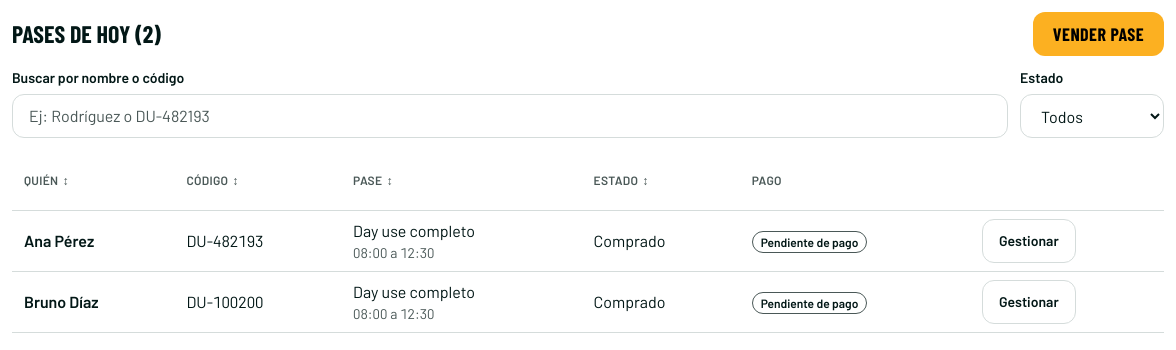
Test: PassesToday › lists the day's passes in a table and finds them by name or code
The image size is (1176, 350).
Expected: the heading "Pases de hoy (2)" is shown, [12, 18, 161, 50]
Expected: the table named "Pases de hoy" is shown, [12, 150, 1164, 333]
Type "bru" into the search field labelled "Buscar por nombre o código".
click(510, 116); type("bru")  # box [12, 94, 1008, 138]
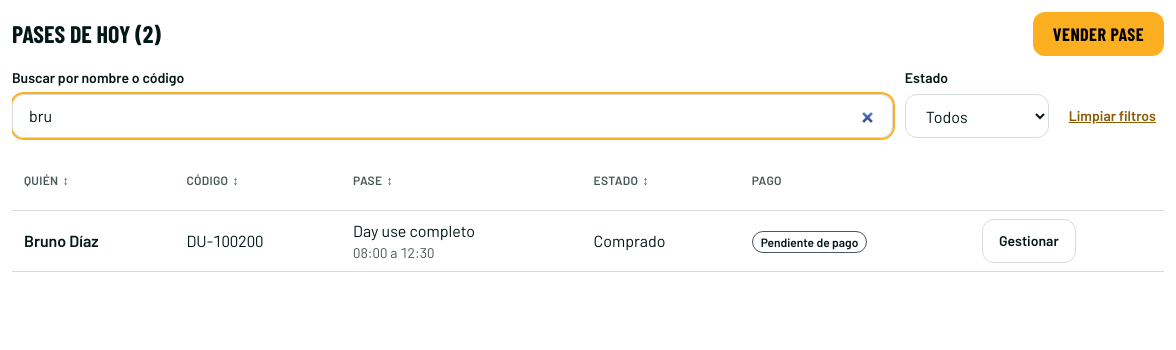
Expected: the cell "Bruno Díaz" is shown, [12, 211, 174, 272]
Now the text "Ana Pérez" is gone
Clear the search field labelled "Buscar por nombre o código" at (452, 116), box [12, 94, 893, 138]
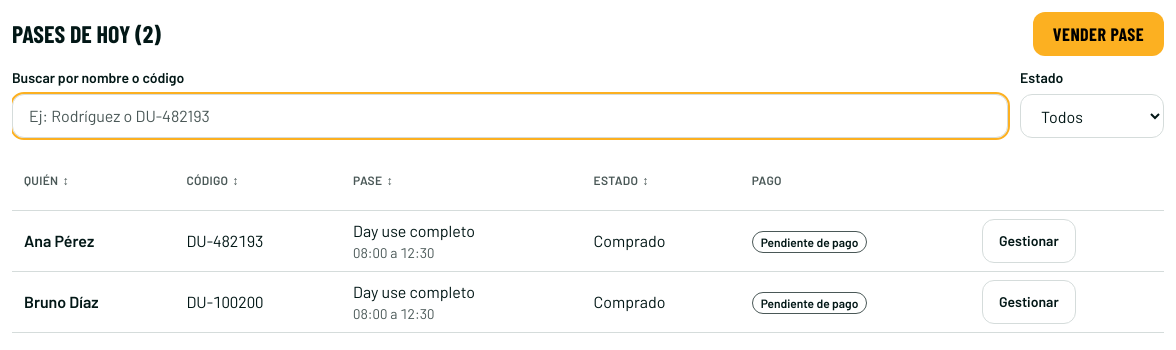
Type "DU-4821" into the search field labelled "Buscar por nombre o código".
click(510, 116); type("DU-4821")  # box [12, 94, 1008, 138]
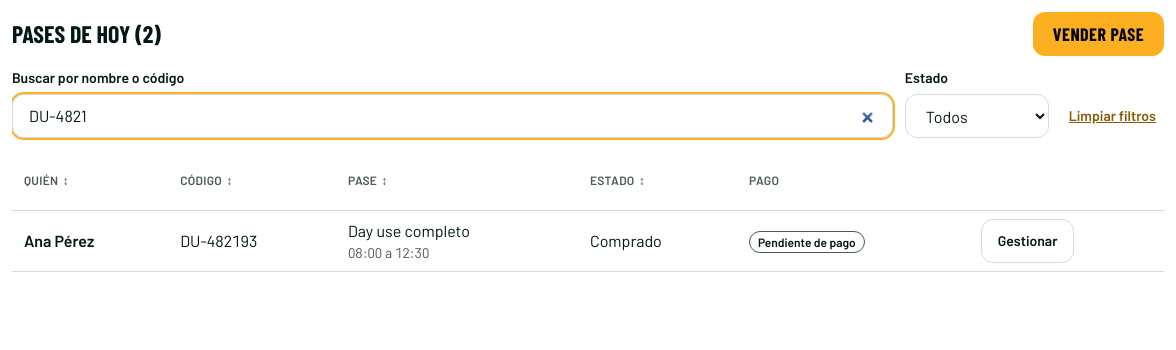
Now the cell "Ana Pérez" is shown, box [12, 211, 168, 272]
Clear the search field labelled "Buscar por nombre o código" at (452, 116), box [12, 94, 893, 138]
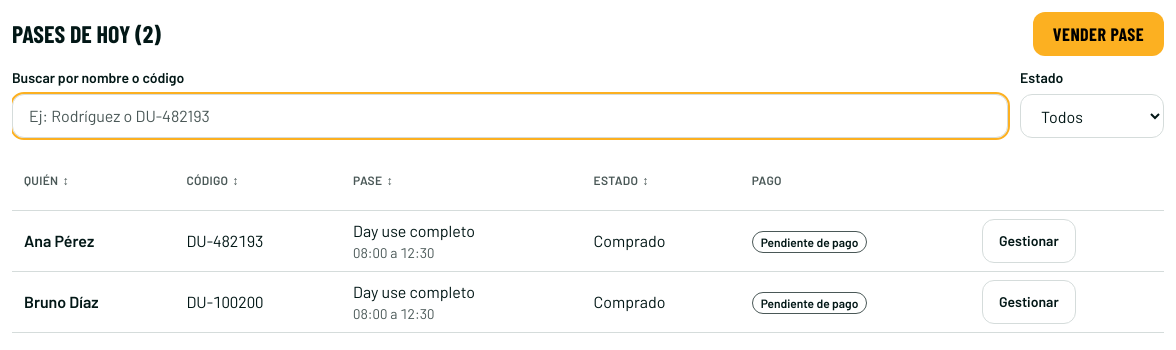
Type "zzz" into the search field labelled "Buscar por nombre o código".
click(510, 116); type("zzz")  # box [12, 94, 1008, 138]
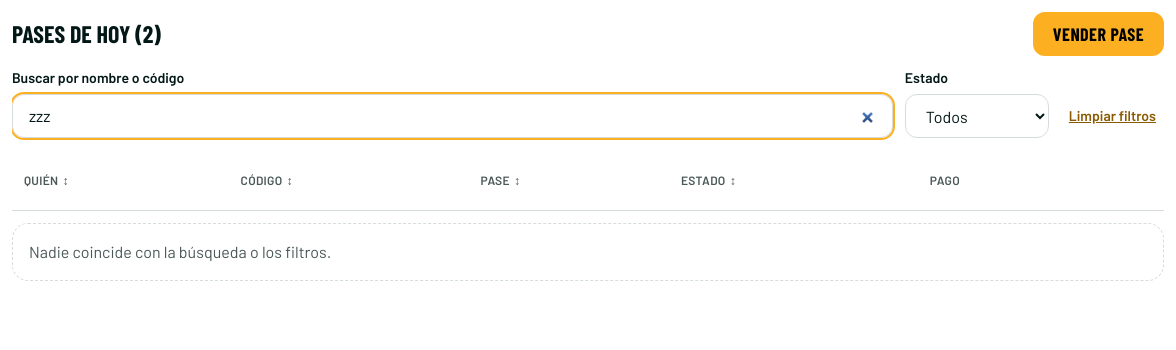
Now the text "Nadie coincide con la búsqueda o los filtros." is shown, box [12, 223, 1164, 281]
